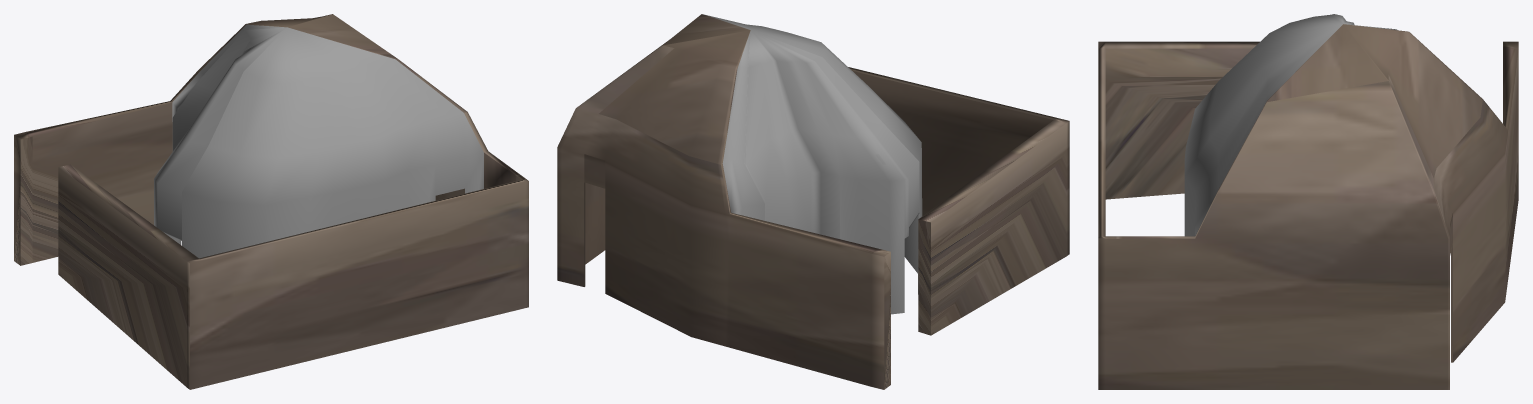
File: cave lv1.fbx
3 renders of one model, left to right at view 1: azimuth 30°, elevation 25°; view 2: azimuth 150°, elevation 25°; view 3: azimuth 270°, elevation 25°, orthographic. The views are drawn at different scales.
Visible parts, largest first — view 1: cave_level_2:Pillars_11_1; view 2: cave_level_2:Pillars_11_1; view 3: cave_level_2:Pillars_11_1.
Part boxes in pixels (x1,y1,x2,y2): cave_level_2:Pillars_11_1: [14, 14, 528, 389]; cave_level_2:Pillars_11_1: [557, 14, 1069, 389]; cave_level_2:Pillars_11_1: [1098, 14, 1518, 389].
Size of the model in its own units: 2.25 by 1.52 by 2.02.
Materials: 2 (1 with a texture image).
